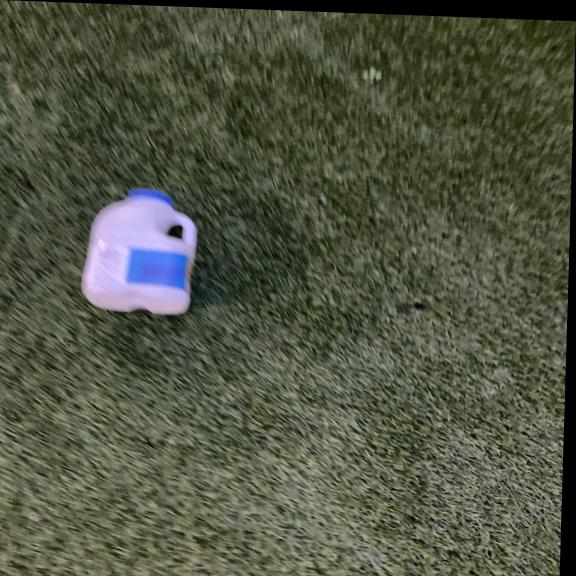Plastik: (78, 186, 204, 322)
